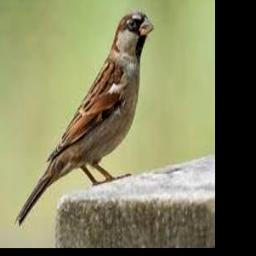Sparrow: (14, 12, 154, 226)
